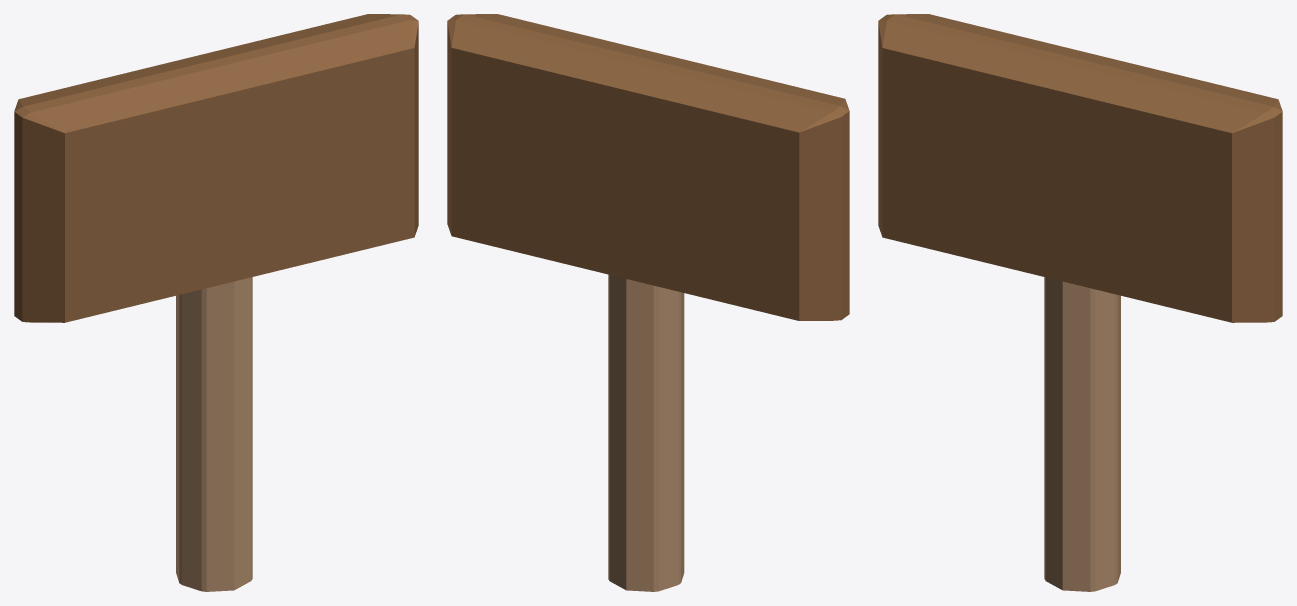
The model's file is signBlank.fbx.
3 views of the same model, side by side, from view 1: azimuth 30°, elevation 25°; view 2: azimuth 150°, elevation 25°; view 3: azimuth 330°, elevation 25° (orthographic).
Visible parts, largest first — view 1: sign; view 2: sign; view 3: sign.
Boxes of the visible parts, <box> form: sign: <box>14,14,418,591</box>; sign: <box>447,14,849,591</box>; sign: <box>878,14,1282,591</box>.
Bounding box in the file's own units: 1143 × 1417 × 232.
Materials: 1 (1 with a texture image).
